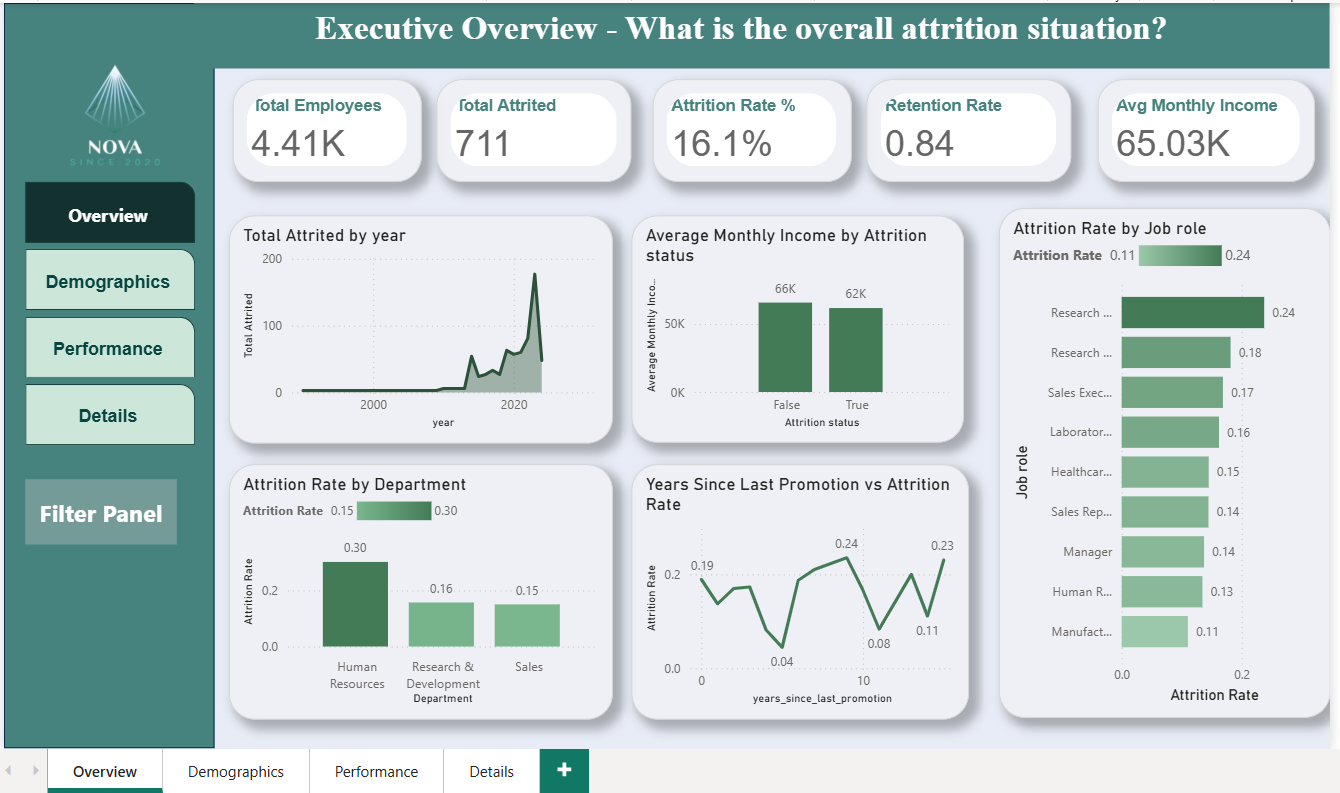

Layout of this report page (visuals, bound fields, positions):
{"tool":"powerbi","page":{"name":"Overview","canvas":[1280,720],"ordinal":0},"visuals":[{"type":"cardVisual","fields":{"Data":["hr_ibm_attrition dim_employee.Total Employees"]},"box":[220.8,73.6,182.2,98.9],"z":0},{"type":"cardVisual","fields":{"Data":["hr_ibm_attrition dim_employee.Total Attrited"]},"box":[417.4,73.6,188.2,98.9],"z":2000},{"type":"cardVisual","fields":{"Data":["hr_ibm_attrition dim_employee.Attrition Rate %"]},"box":[626.1,73.6,191.8,98.9],"z":4000},{"type":"cardVisual","fields":{"Data":["hr_ibm_attrition dim_employee.Retention Rate"]},"box":[832.4,73.6,197.9,98.9],"z":6000},{"type":"cardVisual","fields":{"Data":["hr_ibm_attrition dim_employee.Avg Monthly Income"]},"box":[1055.6,73.6,209.9,98.9],"z":8000},{"type":"columnChart","fields":{"Y":["hr_ibm_attrition dim_employee.Attrition Rate"],"Category":["hr_ibm_attrition dim_department.dept_name"]},"box":[217.2,445.2,370.4,246.1],"z":9000},{"type":"columnChart","fields":{"Category":["hr_ibm_attrition fact_attrition.attrition_flag"],"Y":["hr_ibm_attrition dim_employee.Avg Monthly Income"]},"box":[605.6,205.1,320.9,219.6],"z":10000},{"type":"clusteredBarChart","fields":{"Y":["hr_ibm_attrition dim_employee.Attrition Rate"],"Category":["hr_ibm_attrition dim_job_role.role_title"]},"box":[960,198.3,320,491.9],"z":11000},{"type":"shape","title":"Shape 1","box":[0,0,203.2,719.2],"z":12000},{"type":"image","box":[3.9,0,202.2,206.1],"z":13000},{"type":"textbox","box":[183.2,0,1096.3,63.6],"z":14000},{"type":"lineChart","fields":{"Y":["hr_ibm_attrition dim_employee.Total Attrited"],"Category":["hr_ibm_attrition dim_date.era Hierarchy.era","hr_ibm_attrition dim_date.era Hierarchy.decade","hr_ibm_attrition dim_date.era Hierarchy.year"]},"box":[217.5,205,370,220],"z":15000},{"type":"pageNavigator","box":[20,172,164,254],"z":16000},{"type":"actionButton","title":"Button filter","box":[20.3,459.2,146.3,63],"z":16500},{"type":"lineChart","title":"Years Since Last Promotion vs Attrition Rate","fields":{"Category":["hr_ibm_attrition fact_attrition.years_since_last_promotion"],"Y":["hr_ibm_attrition dim_employee.Attrition Rate"]},"box":[605.6,445.2,325.7,246.1],"z":17000}]}

Visuals, with their boxes on the page's 1280x720 design canvas (x1, y1, x2, y2). These are canvas units, not pixel positions in the 1340x793 screenshot, which may show the page scaled, cropped or inside an application window:
cardVisual - hr_ibm_attrition dim_employee.Total Employees: bbox(221, 74, 403, 172)
cardVisual - hr_ibm_attrition dim_employee.Total Attrited: bbox(417, 74, 606, 172)
cardVisual - hr_ibm_attrition dim_employee.Attrition Rate %: bbox(626, 74, 818, 172)
cardVisual - hr_ibm_attrition dim_employee.Retention Rate: bbox(832, 74, 1030, 172)
cardVisual - hr_ibm_attrition dim_employee.Avg Monthly Income: bbox(1056, 74, 1266, 172)
columnChart - hr_ibm_attrition dim_employee.Attrition Rate x hr_ibm_attrition dim_department.dept_name: bbox(217, 445, 588, 691)
columnChart - hr_ibm_attrition fact_attrition.attrition_flag x hr_ibm_attrition dim_employee.Avg Monthly Income: bbox(606, 205, 926, 425)
clusteredBarChart - hr_ibm_attrition dim_employee.Attrition Rate x hr_ibm_attrition dim_job_role.role_title: bbox(960, 198, 1280, 690)
"Shape 1" shape: bbox(0, 0, 203, 719)
image: bbox(4, 0, 206, 206)
textbox: bbox(183, 0, 1280, 64)
lineChart - hr_ibm_attrition dim_employee.Total Attrited x hr_ibm_attrition dim_date.era Hierarchy.era: bbox(218, 205, 588, 425)
pageNavigator: bbox(20, 172, 184, 426)
"Button filter" actionButton: bbox(20, 459, 167, 522)
"Years Since Last Promotion vs Attrition Rate" lineChart: bbox(606, 445, 931, 691)
